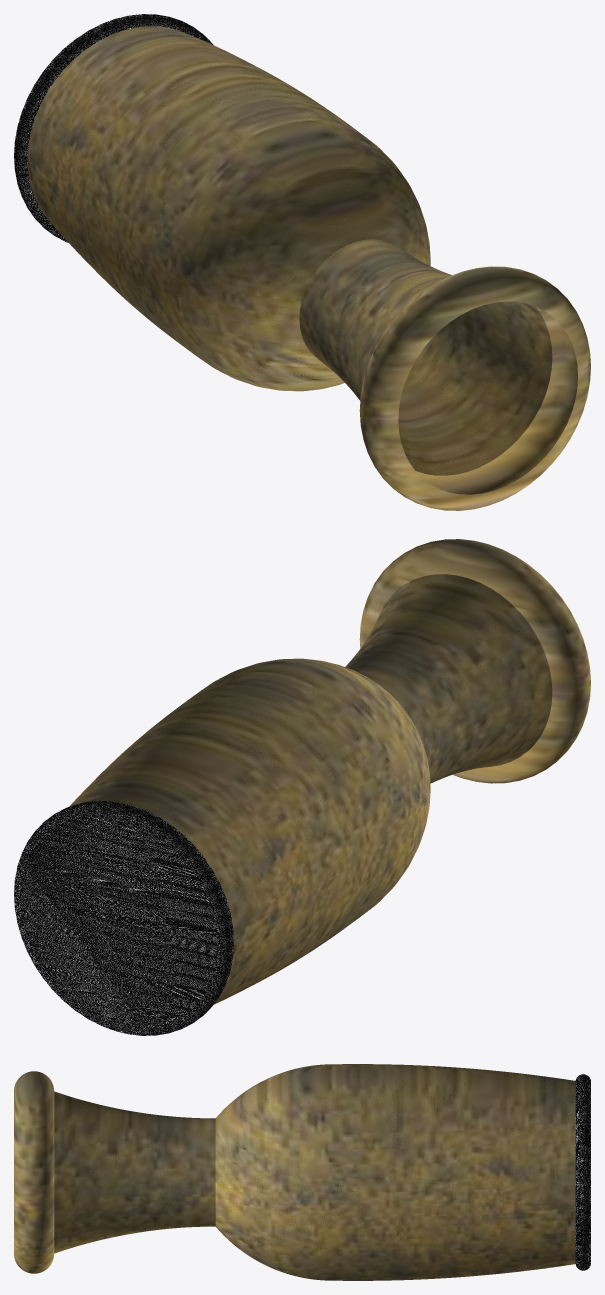
File: model_align.obj
3 views of the same model, one above another, from view 1: azimuth 30°, elevation 25°; view 2: azimuth 150°, elevation 25°; view 3: azimuth 270°, elevation 25° (orthographic). The views are drawn at different scales.
Visible parts, largest first — view 1: mesh1_mesh1-geometry; view 2: mesh1_mesh1-geometry; view 3: mesh1_mesh1-geometry.
Boxes of the visible parts, x1=… form: mesh1_mesh1-geometry: x1=14, y1=14, x2=590, y2=510; mesh1_mesh1-geometry: x1=14, y1=539, x2=590, y2=1035; mesh1_mesh1-geometry: x1=14, y1=1064, x2=590, y2=1280.
Size of the model in its own units: 0.091 by 0.0908 by 0.2422.
